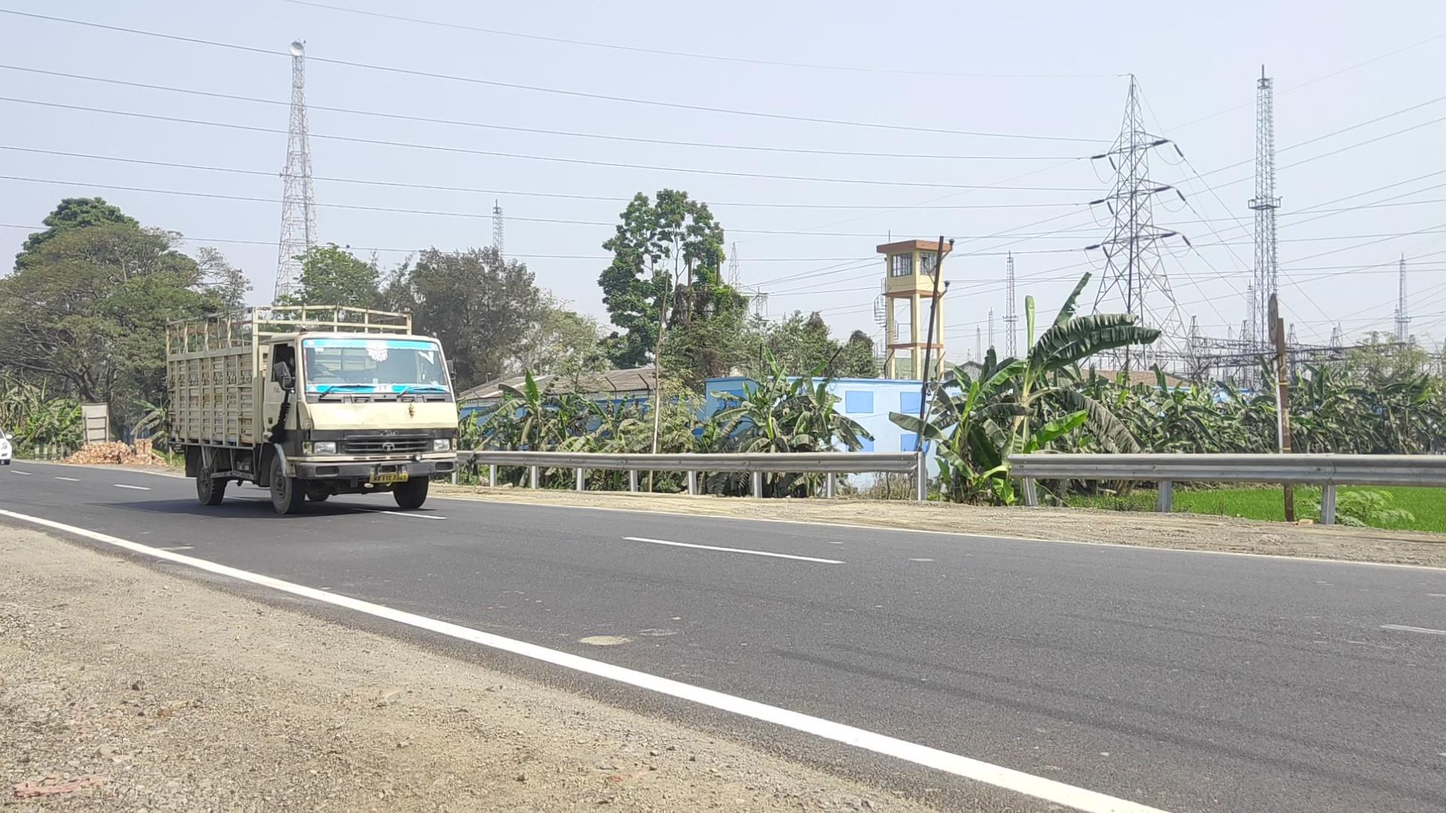truck: (164, 302, 458, 516)
